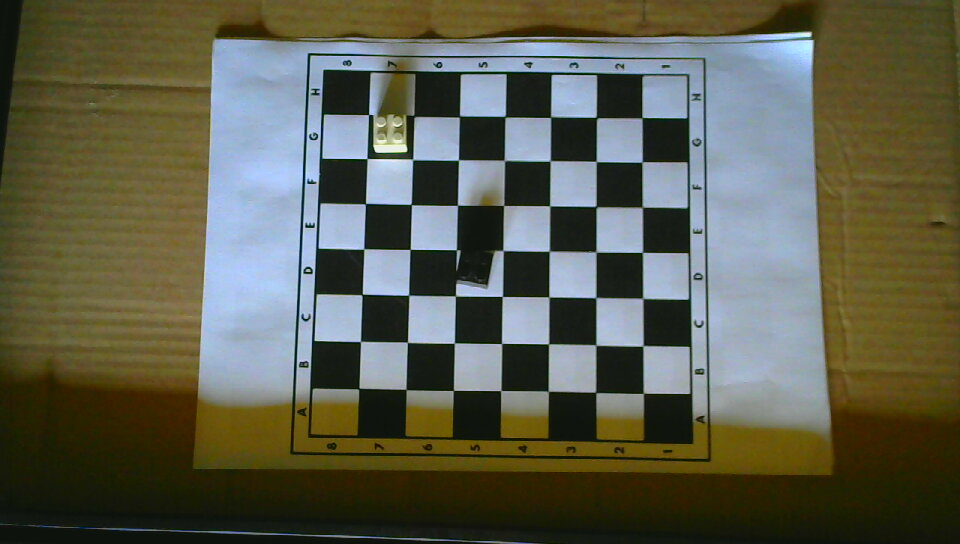bp: (454, 246, 495, 289)
wp: (371, 113, 408, 153)
